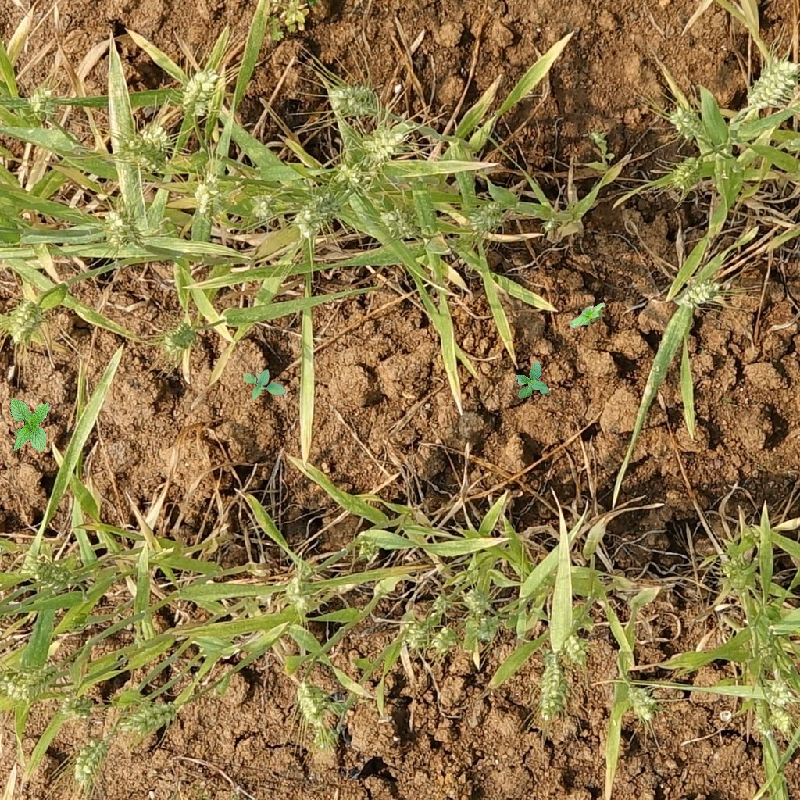spikelet: (744, 57, 799, 110), (1, 660, 59, 700), (118, 698, 177, 735), (536, 649, 566, 721), (293, 187, 335, 238), (129, 122, 172, 171), (180, 66, 219, 115), (5, 296, 45, 343), (327, 82, 378, 117), (26, 554, 73, 591), (71, 738, 107, 785), (359, 125, 405, 161), (294, 678, 328, 725), (377, 204, 420, 241), (719, 552, 757, 593), (191, 172, 225, 217), (158, 318, 198, 355), (677, 275, 721, 308), (101, 208, 138, 247), (667, 104, 705, 140), (466, 198, 505, 233), (624, 682, 659, 721), (24, 83, 60, 120), (285, 571, 319, 610), (668, 155, 702, 192), (248, 189, 278, 225), (760, 677, 794, 708), (60, 690, 94, 721), (562, 631, 590, 666), (332, 161, 364, 191), (472, 613, 501, 643), (461, 586, 492, 614), (402, 617, 429, 649), (430, 625, 459, 653), (583, 123, 611, 152), (355, 534, 380, 563)
weed: (7, 398, 53, 455), (509, 359, 552, 405), (264, 1, 313, 41), (566, 298, 611, 335), (243, 369, 286, 400)
